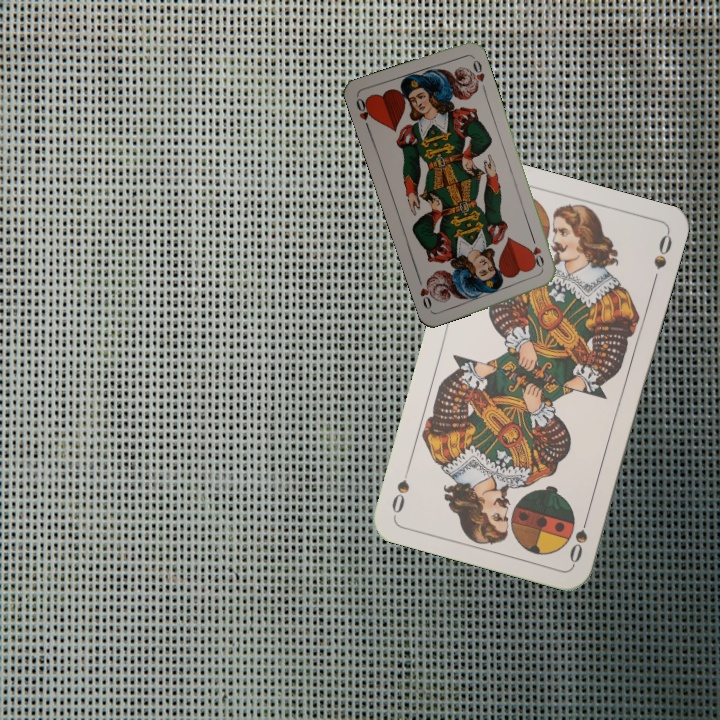HO: (352, 94, 375, 133), (527, 233, 547, 274)
SO: (565, 508, 592, 567)
